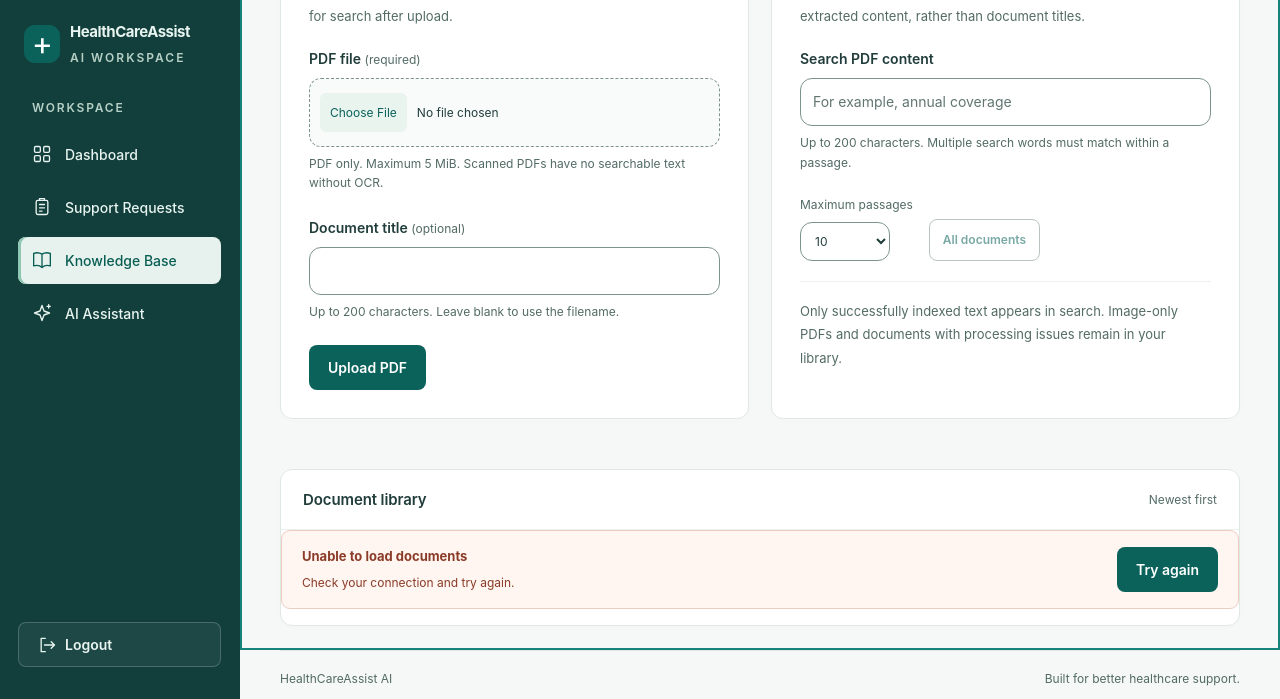
Test: Knowledge Base library › shows a sanitized library error and explicit retry
(page scrolled)
expect the message "Unable to load documents Check your connection and try again. Try again" is shown: met, box [281,530,1239,609]
Click the button "Try again".
click(1167, 570)  # box [1117,547,1218,592]
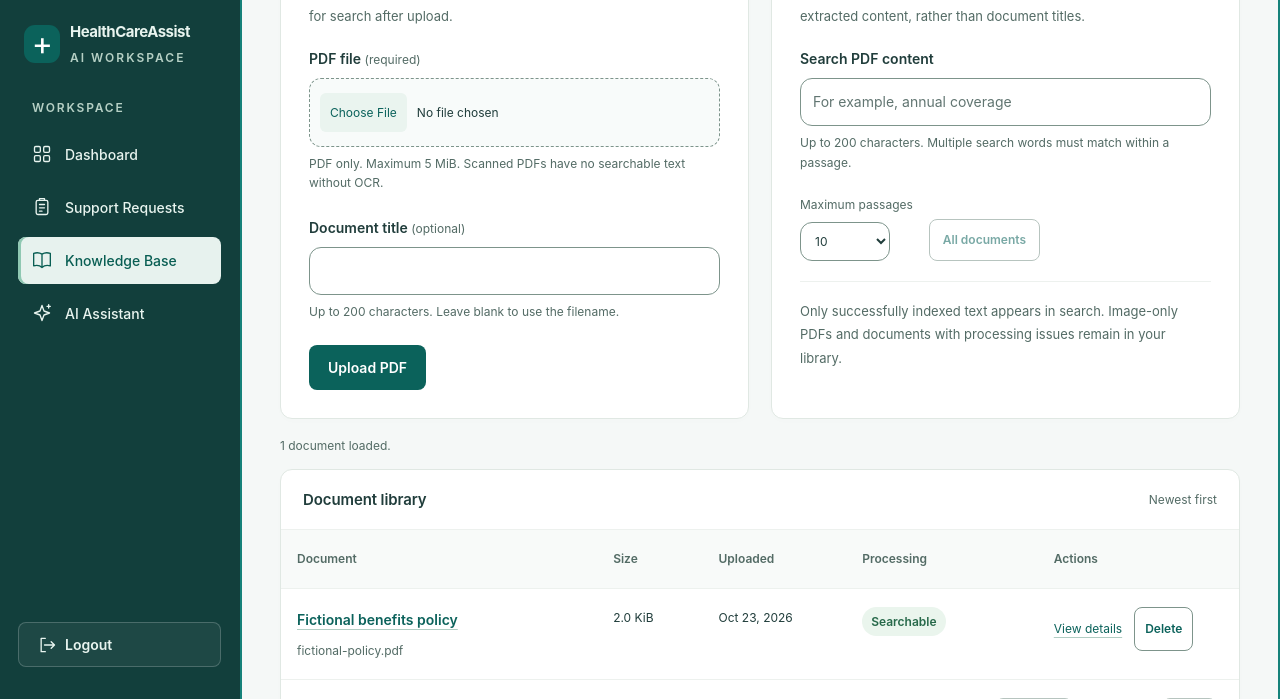
expect the table is shown: met, box [281,530,1239,680]
